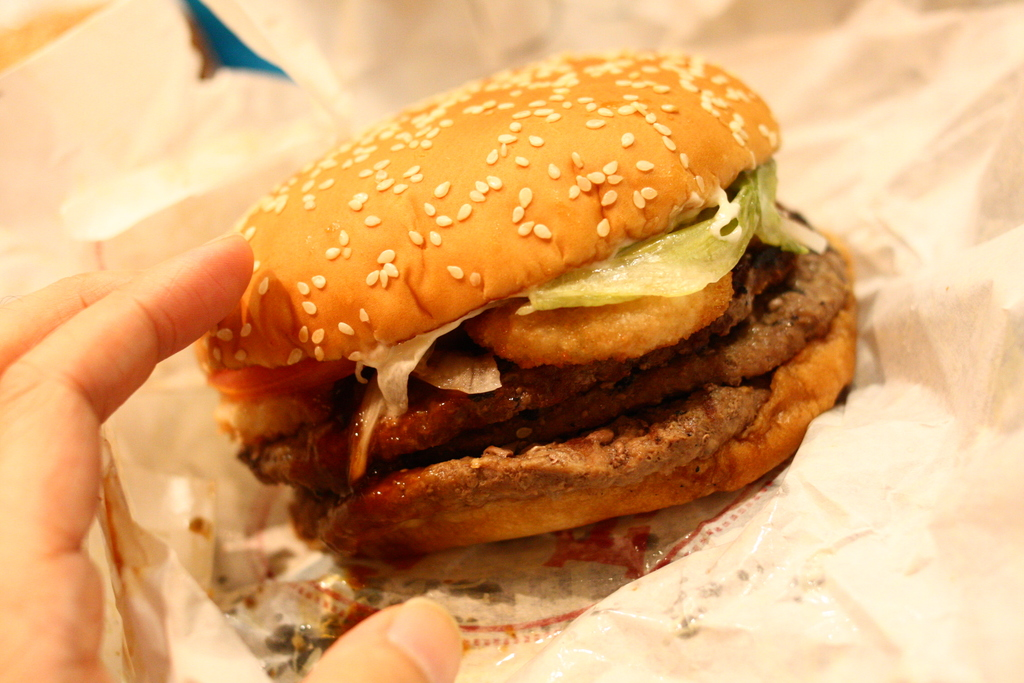Hamburger: (191, 57, 857, 560)
